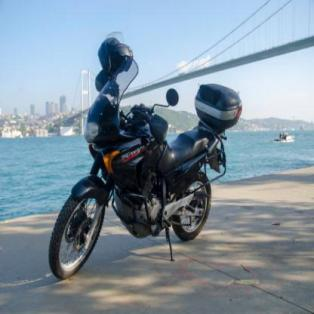Motocicleta: (43, 36, 238, 282)
